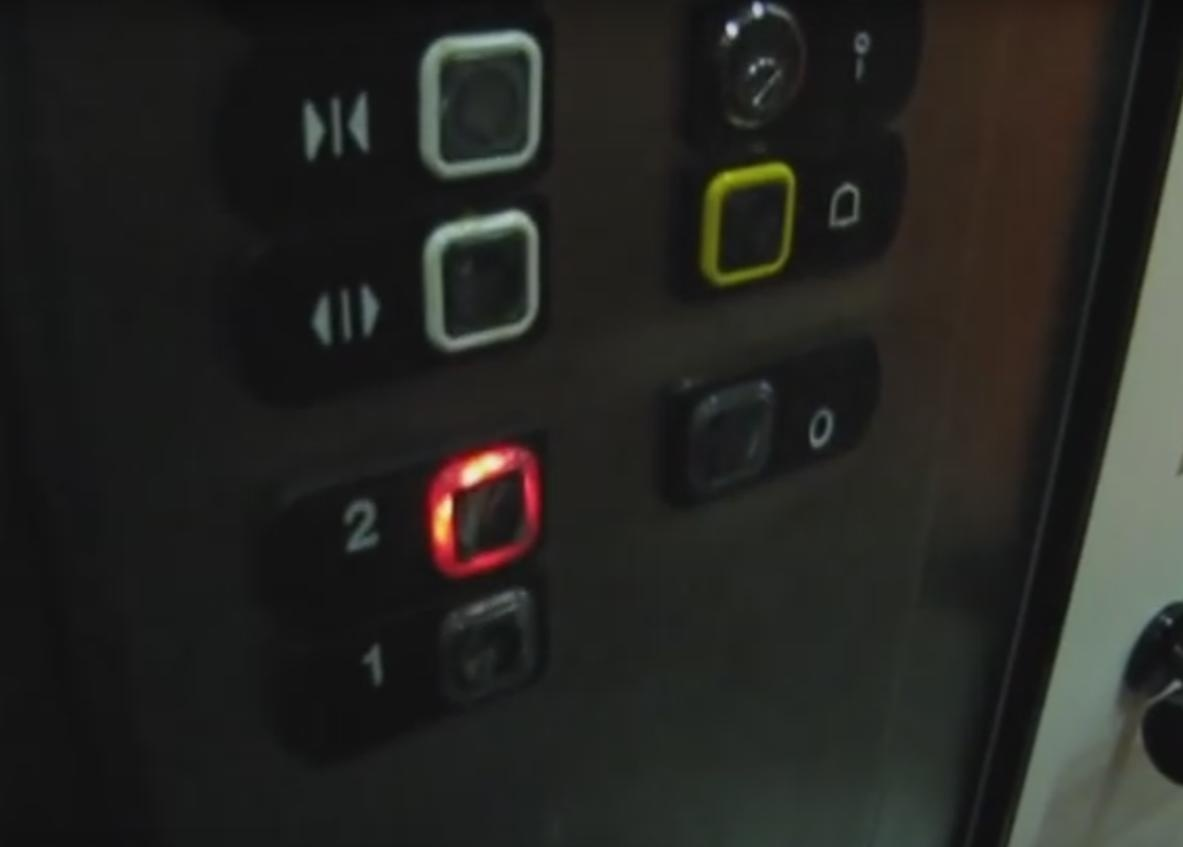0: (655, 334, 883, 505)
1: (254, 569, 563, 743)
2: (252, 434, 563, 618)
alarm: (657, 135, 907, 312)
close: (211, 8, 555, 199)
open: (221, 194, 556, 396)
unknown: (671, 1, 932, 133)
